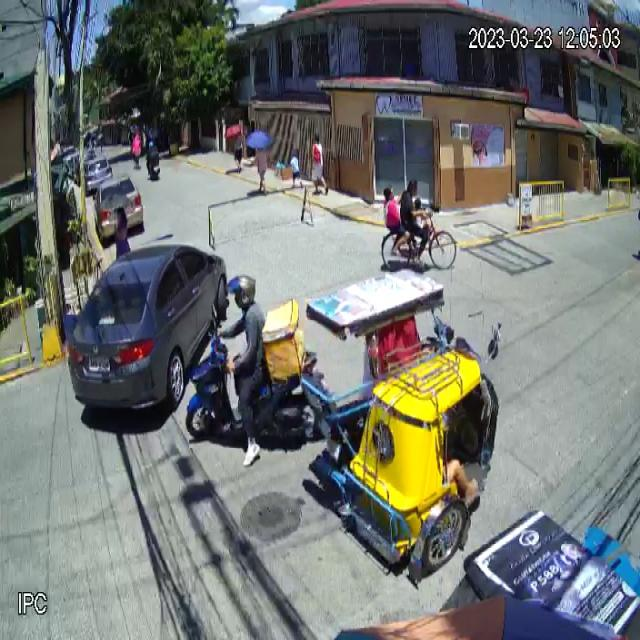Car: (66, 242, 227, 421)
Motorcycle: (185, 304, 324, 451)
Tricycle: (304, 265, 501, 578)
